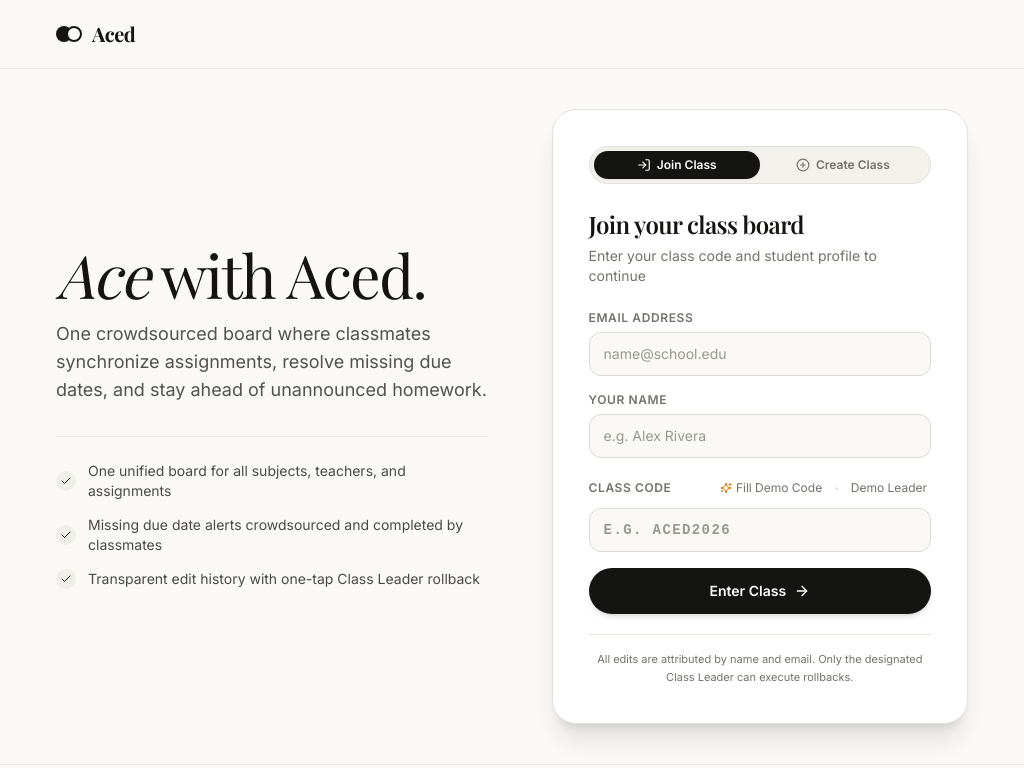
Scenario: JoinClassForm Component › validates required name field after email is provided
The width and height of the screenshot is (1024, 768).
Type "alex@aced.school" into the field labelled "Email address". click: (760, 354)
box: [589,332,931,376]
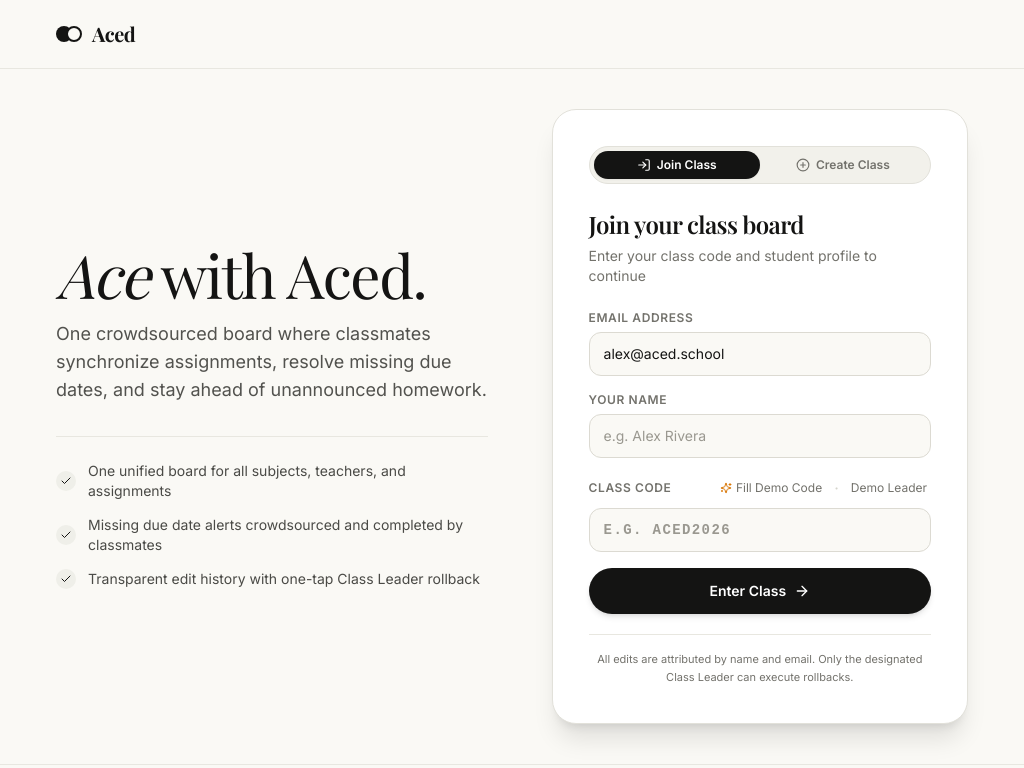
Click the button "Enter Class". click: click(760, 591)
box: [589,568,931,614]
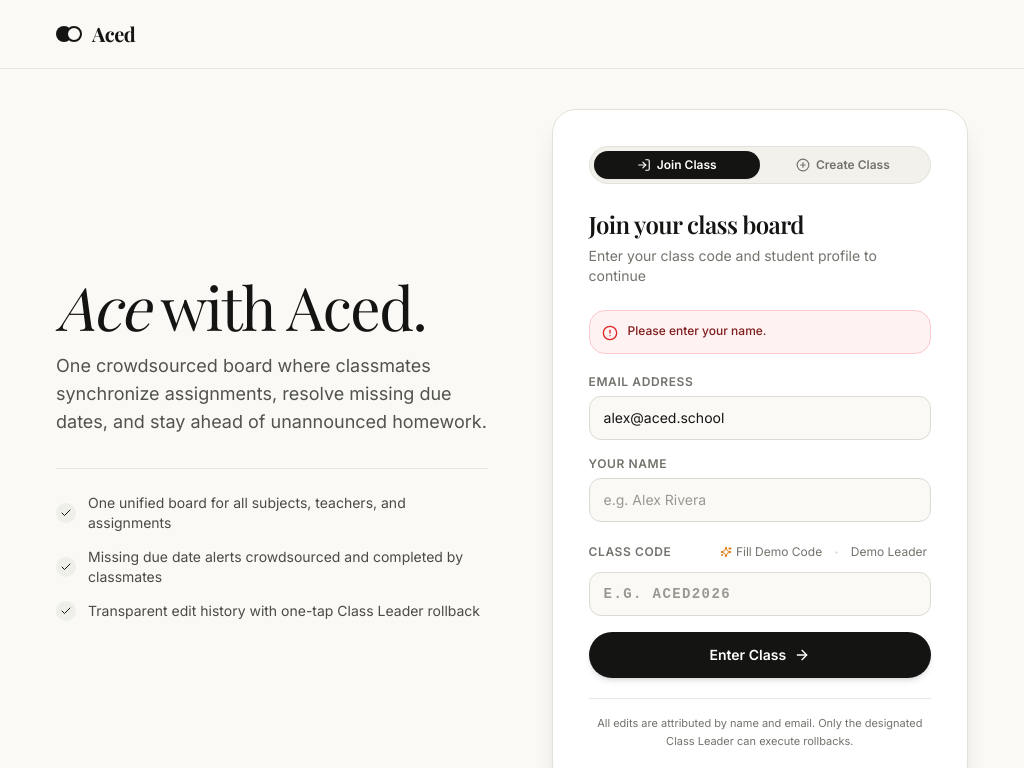
Now the text "Please enter your name." is shown, box [628,323,766,338]
